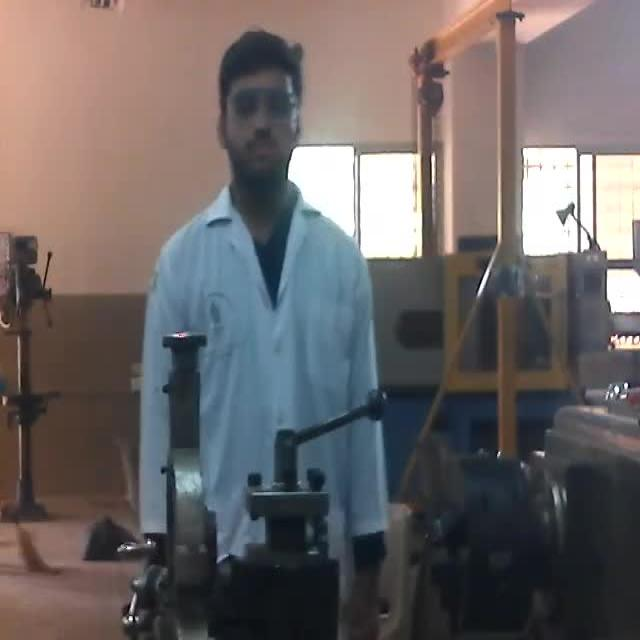googles: (228, 81, 301, 127)
labcoat: (136, 168, 390, 640)
